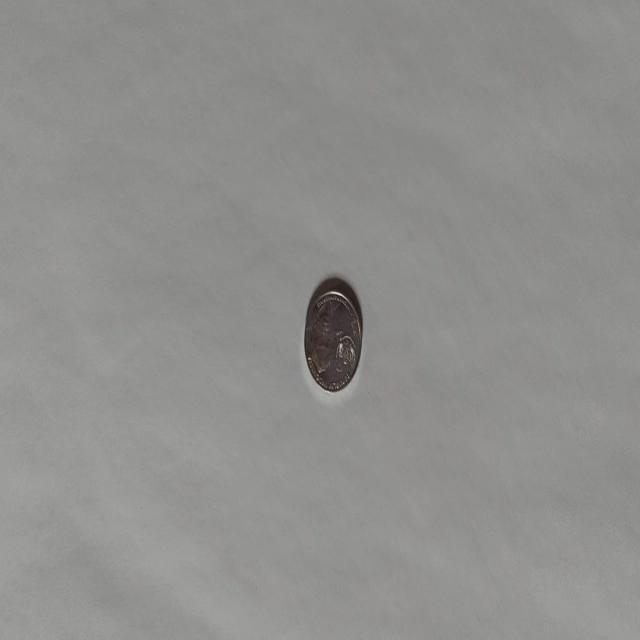dua ratus rupiah: (303, 279, 363, 393)
